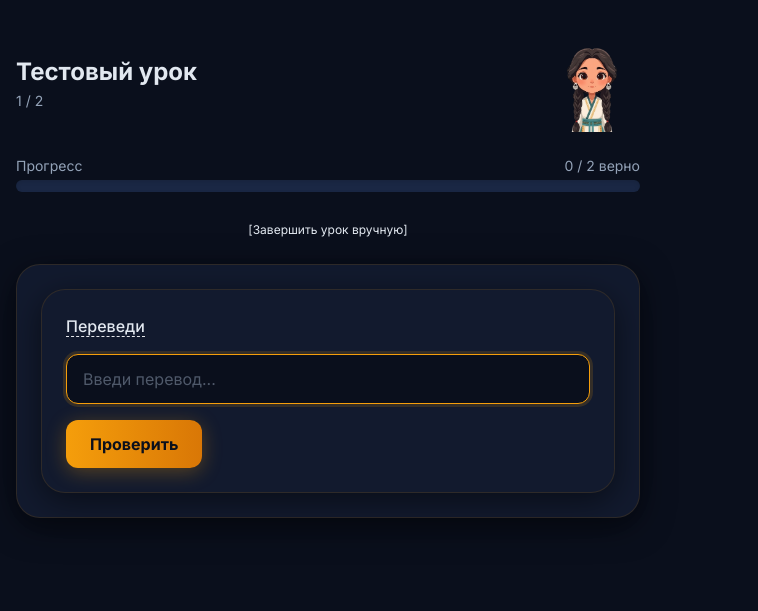
it: LessonView › не должен завершать урок, если есть неправильные ответы
Первое упражнение отвечаем неправильно
Type "Неправильно" into the field with placeholder "Введи перевод..." at (328, 379), box [66,354,590,404]
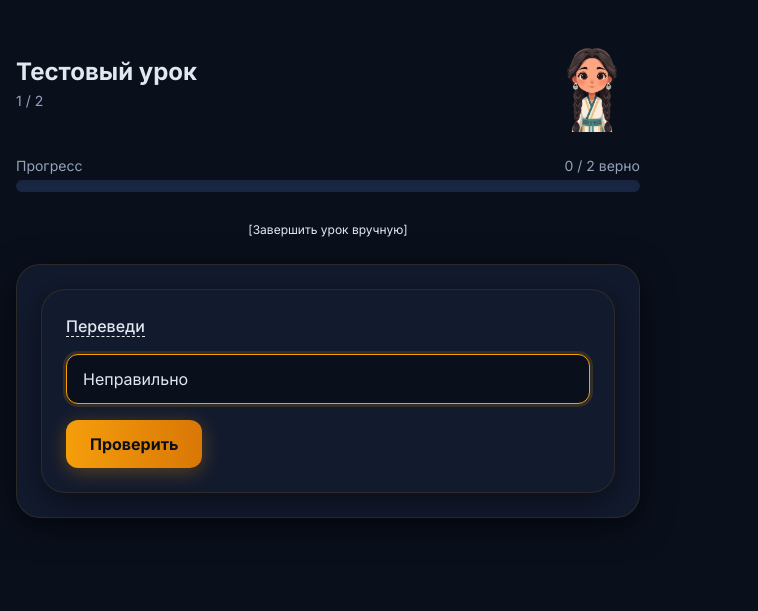
Click the button "Проверить" at (134, 444), box [66,420,202,468]
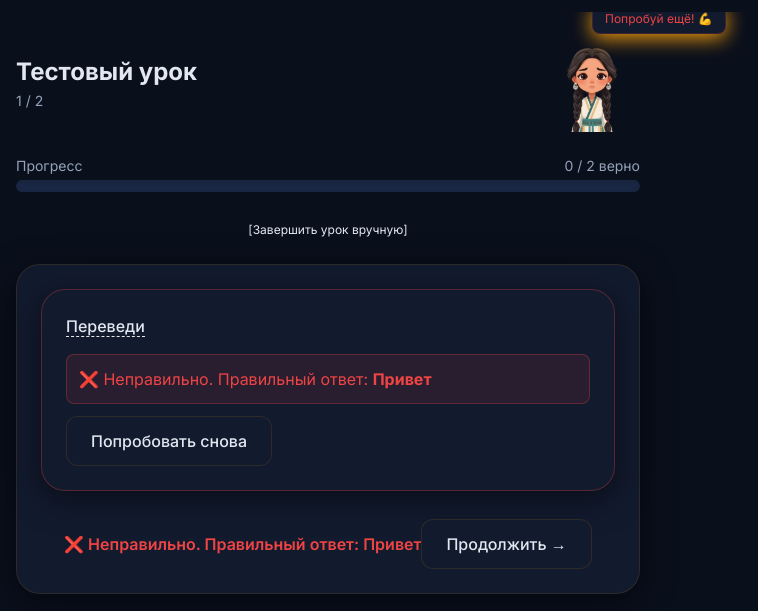
Result: the text "❌ Неправильно. Правильный ответ: Привет" is shown at [66,354,590,404]
